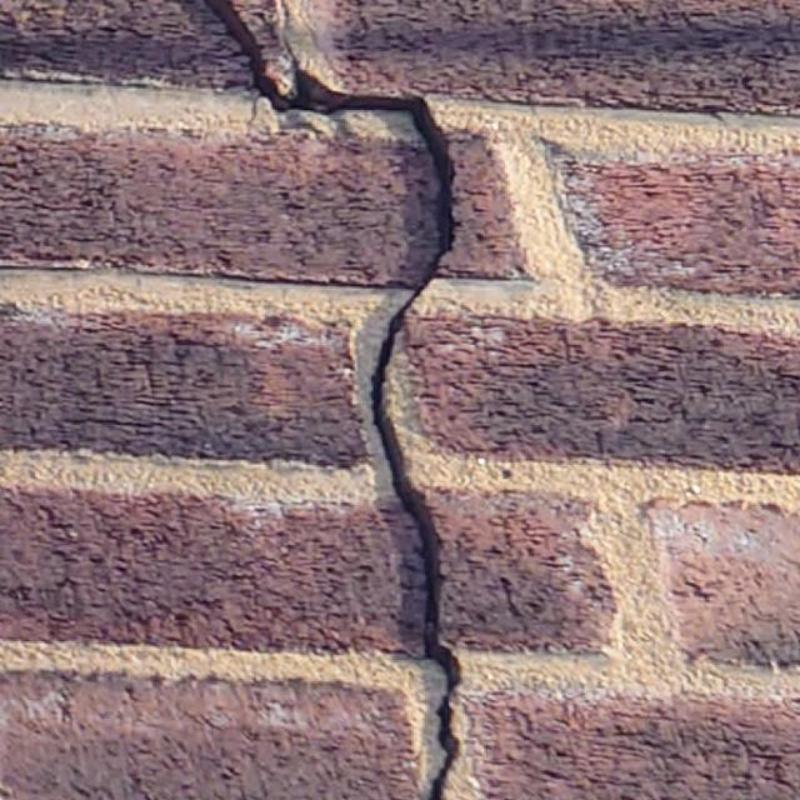crack: (207, 0, 459, 799)
